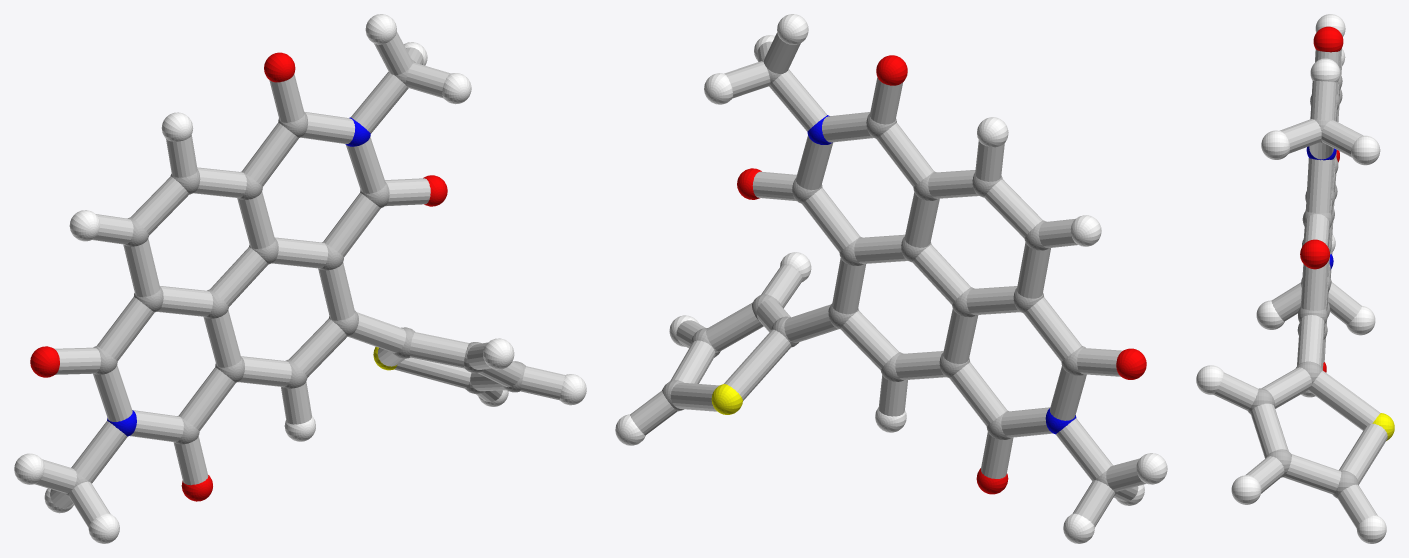
The model's file is Dimethyl_Naphthalene_Dicarboximide_Phi_0_Theta_70_Thiophene.glb.
The picture shows the model from 3 angles, left to right: view 1: azimuth 30°, elevation 25°; view 2: azimuth 150°, elevation 25°; view 3: azimuth 270°, elevation 25°; orthographic projection. The views are drawn at different scales.
Parts seen in each view (by area): view 1: grp14119, grp7241, grp1, grp12309, grp11585; view 2: grp14119, grp7241, grp1, grp12309, grp13757, grp11585; view 3: grp14119, grp7241, grp1, grp12309, grp13757.
Boxes of the visible parts, bbox=[...] form: grp14119: bbox=[35, 32, 565, 527]; grp7241: bbox=[14, 14, 586, 543]; grp1: bbox=[64, 60, 525, 496]; grp12309: bbox=[30, 52, 447, 501]; grp11585: bbox=[107, 117, 370, 436]; grp14119: bbox=[630, 32, 1146, 526]; grp7241: bbox=[615, 14, 1167, 543]; grp1: bbox=[662, 58, 1119, 494]; grp12309: bbox=[737, 55, 1146, 494]; grp13757: bbox=[711, 384, 742, 414]; grp11585: bbox=[807, 115, 1076, 434]; grp14119: bbox=[1213, 48, 1387, 528]; grp7241: bbox=[1196, 14, 1386, 543]; grp1: bbox=[1248, 74, 1358, 498]; grp12309: bbox=[1300, 26, 1343, 372]; grp13757: bbox=[1372, 413, 1394, 440].
Bounding box in the file's own units: 11.65 × 9.28 × 3.98.
